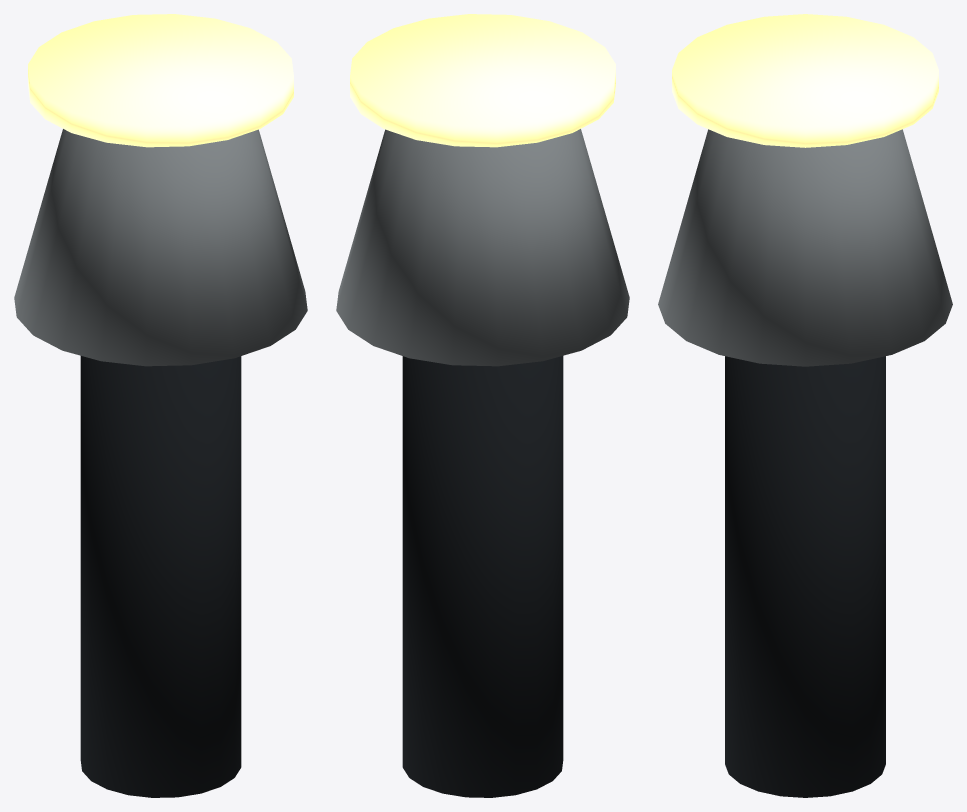
File: torch.glb
3 views of the same model, side by side, from view 1: azimuth 30°, elevation 25°; view 2: azimuth 150°, elevation 25°; view 3: azimuth 270°, elevation 25° (orthographic).
Visible parts, largest first — view 1: Torch grip, Torch head, Torch glass; view 2: Torch grip, Torch head, Torch glass; view 3: Torch grip, Torch head, Torch glass.
Part boxes in pixels (box(x1,y1,x2,y2)): Torch grip: box(80, 356, 241, 797); Torch head: box(14, 129, 307, 366); Torch glass: box(28, 14, 293, 147); Torch grip: box(402, 356, 563, 797); Torch head: box(336, 129, 629, 366); Torch glass: box(350, 14, 615, 147); Torch grip: box(725, 356, 885, 797); Torch head: box(658, 129, 952, 366); Torch glass: box(672, 14, 938, 147).
Size of the model in its own units: 0.128 by 0.332 by 0.128.
